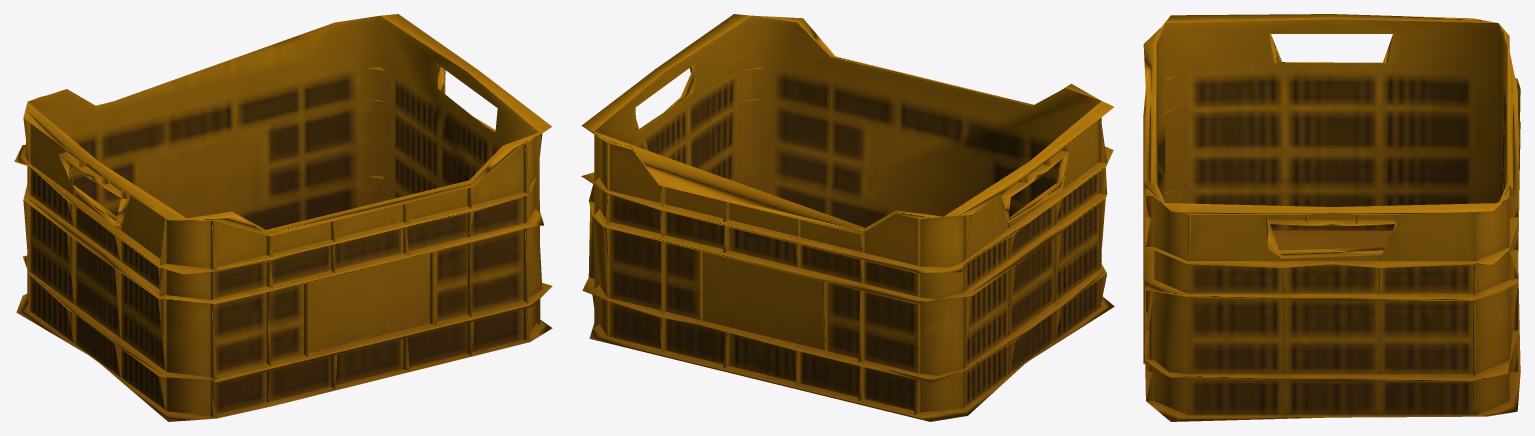
File: plastic_crate_02.glb
The picture shows the model from 3 angles, left to right: view 1: azimuth 30°, elevation 25°; view 2: azimuth 150°, elevation 25°; view 3: azimuth 270°, elevation 25°; orthographic projection. The views are drawn at different scales.
Parts seen in each view (by area): view 1: plastic_crate_02; view 2: plastic_crate_02; view 3: plastic_crate_02.
Boxes of the visible parts, x1,y1,x2,y2 form: plastic_crate_02: (14,14,552,421); plastic_crate_02: (581,14,1114,421); plastic_crate_02: (1143,14,1520,421).
Bounding box in the file's own units: 0.5055 × 0.2541 × 0.4055.
Materials: 1 (1 with a texture image).
